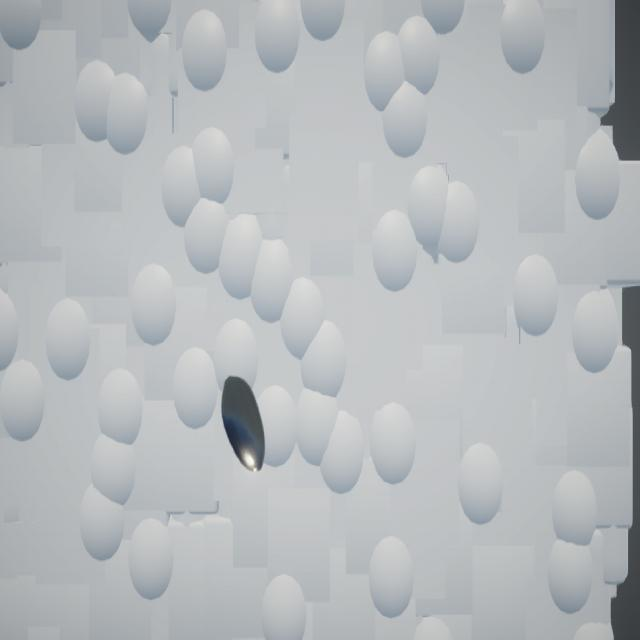top_spoon: (222, 377, 266, 473)
